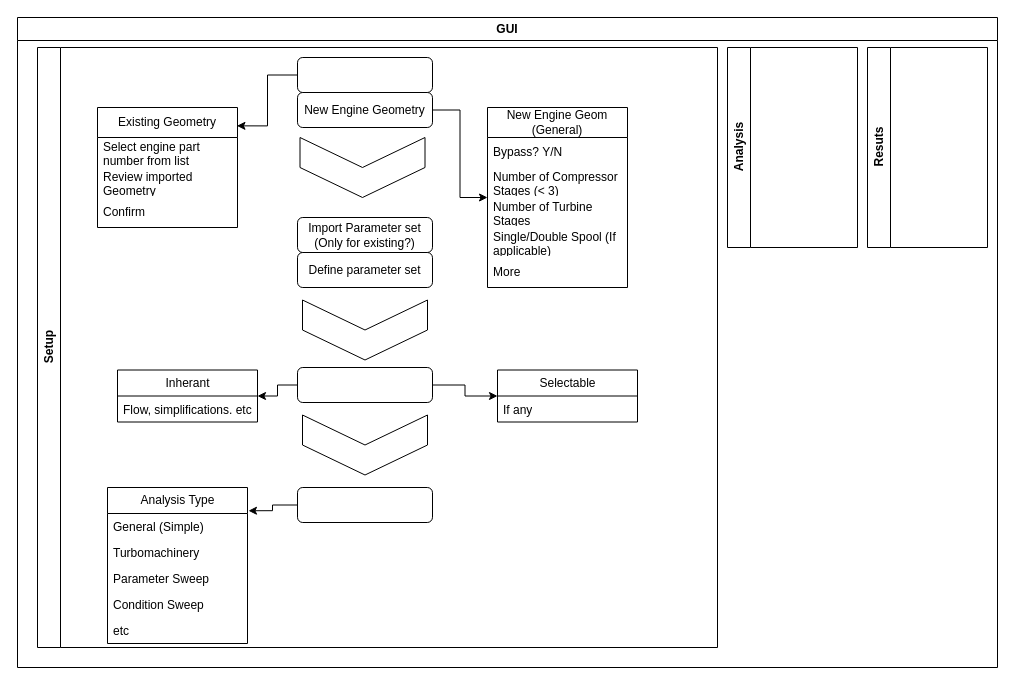
Some shapes in this 1015 by 685 pixel diagram are drawn without their labels. The shapes that lost their labels are listed below. From the top down, each one's centre as x and y in pixels, then its label:
At (x=364, y=74): "Existing Engine Geometry".
At (x=364, y=384): "Assumptions".
At (x=364, y=504): "Analysis Setup".
